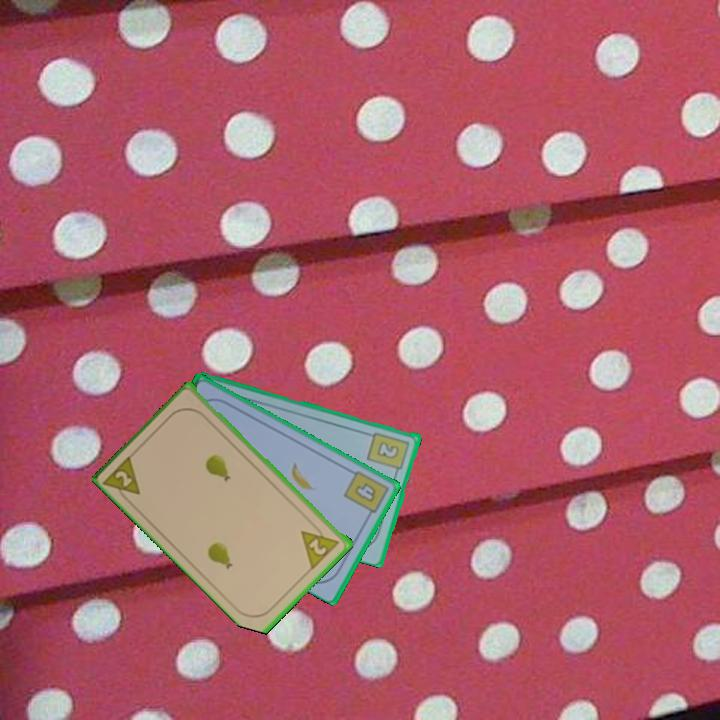2b: (364, 428, 413, 478)
2p: (101, 451, 144, 507), (298, 519, 344, 571)
4b: (340, 467, 392, 521)
